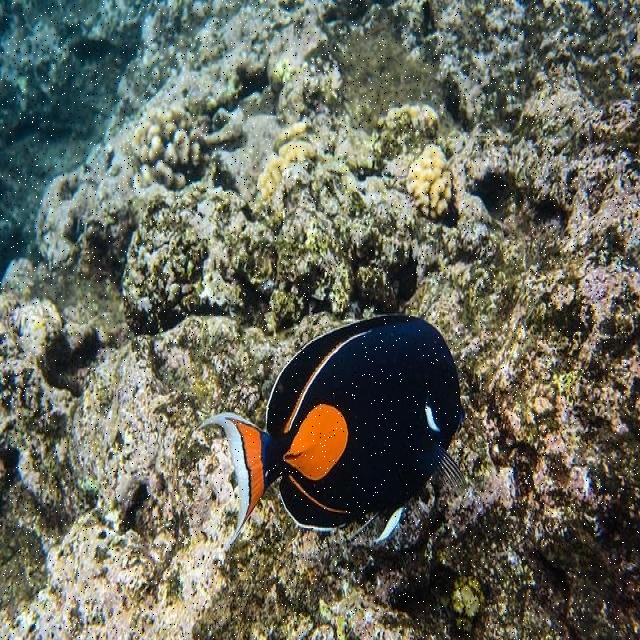fish: (195, 314, 468, 552)
reefs: (132, 92, 243, 197), (257, 122, 316, 200), (406, 143, 453, 218), (377, 104, 439, 132)
